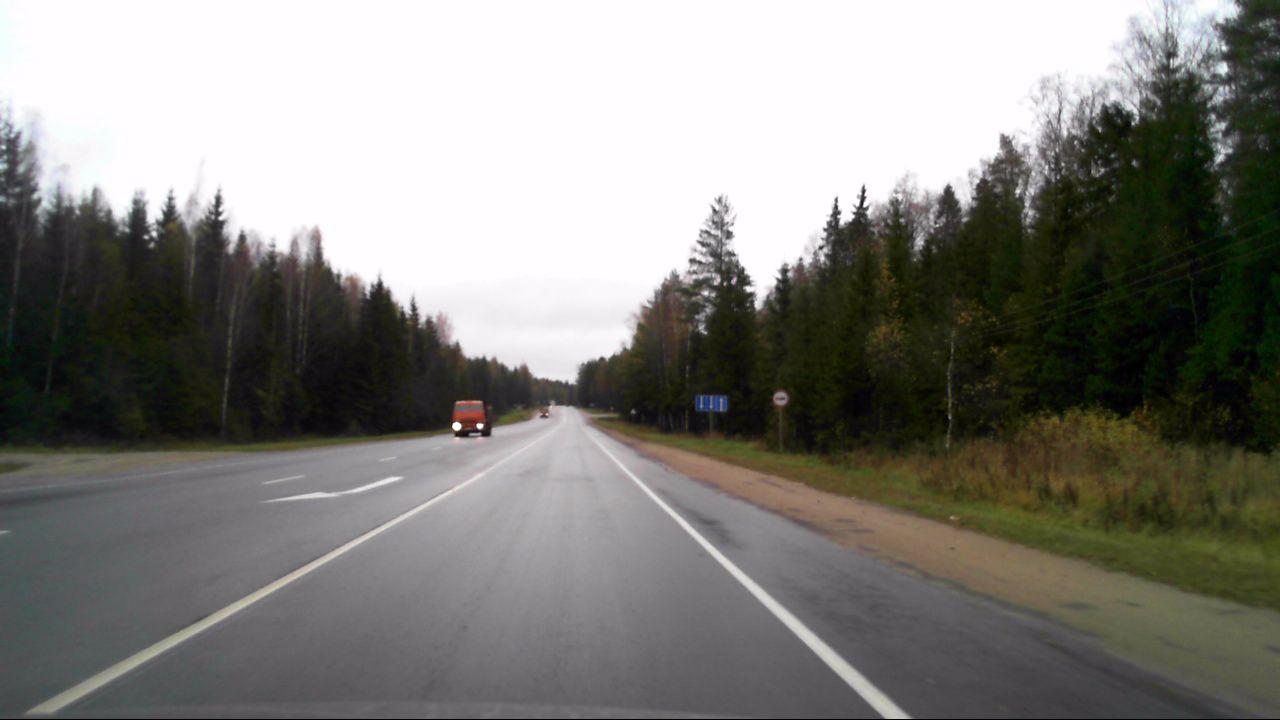road_sign: (695, 394, 728, 412), (772, 390, 790, 407)
